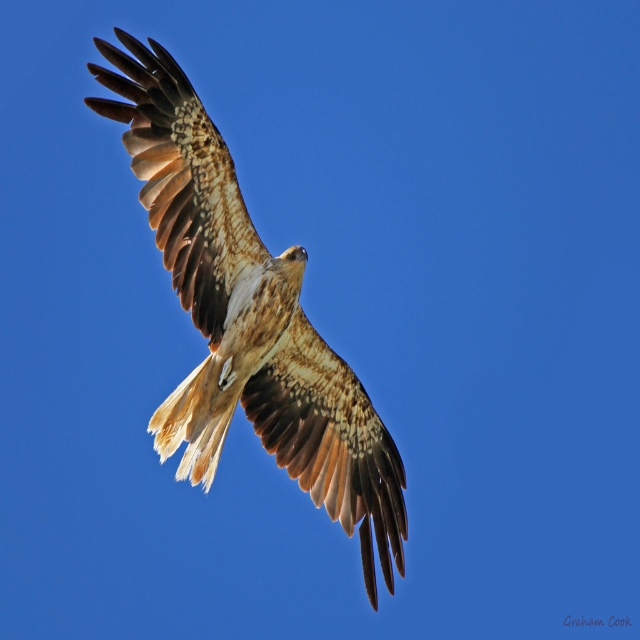Eagle: (83, 26, 408, 612)
